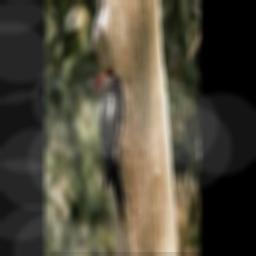Woodpecker: (95, 72, 124, 221)
